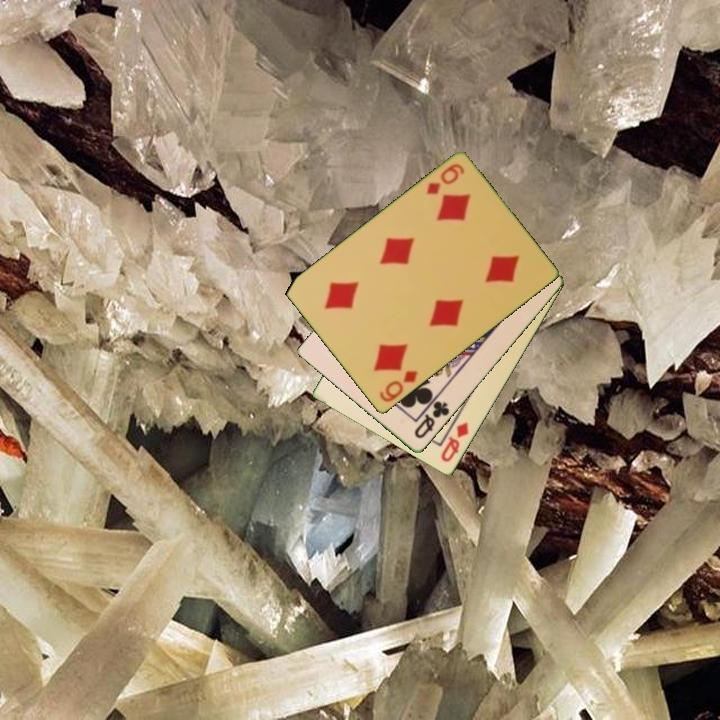6d: (422, 160, 467, 198), (376, 367, 420, 405)
Qc: (411, 392, 453, 442)
Qd: (437, 418, 472, 466)
